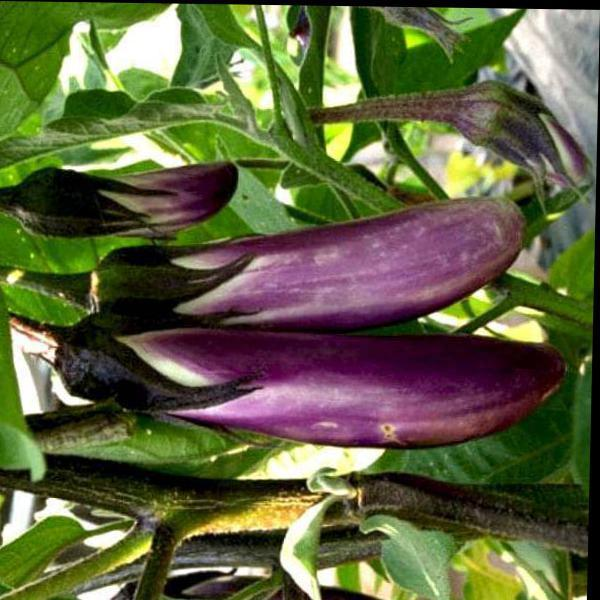eggplant: (54, 150, 566, 451)
